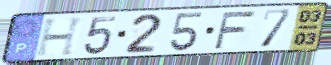2: (124, 12, 165, 55)
5: (168, 10, 206, 53), (82, 15, 120, 56)
7: (260, 8, 294, 49)
F: (212, 10, 259, 51)
H: (34, 15, 87, 58)
